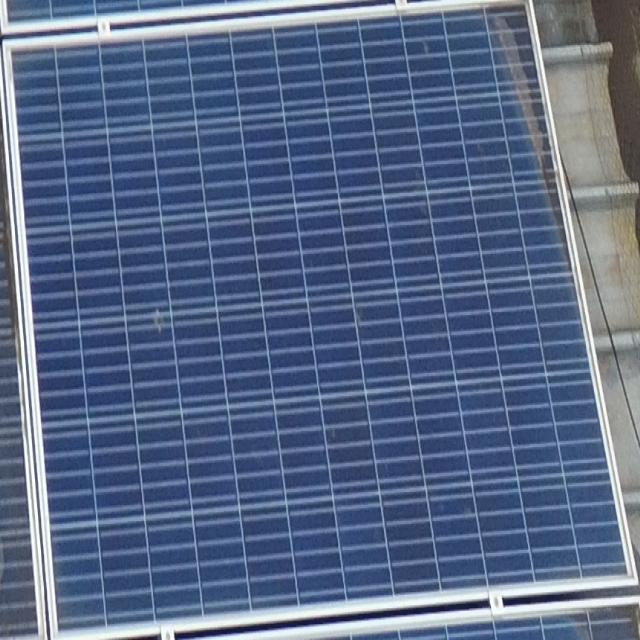Dust: (472, 0, 557, 241)
bird-droppings: (150, 291, 168, 334)
